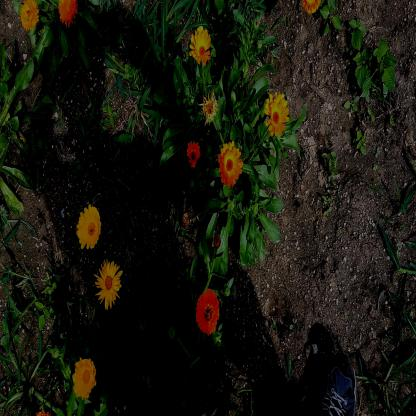marigold: (94, 258, 123, 310), (218, 140, 244, 188), (194, 289, 220, 335), (264, 92, 290, 138), (76, 204, 102, 249), (72, 355, 96, 400), (188, 24, 212, 65), (185, 136, 203, 170), (20, 0, 38, 30)
